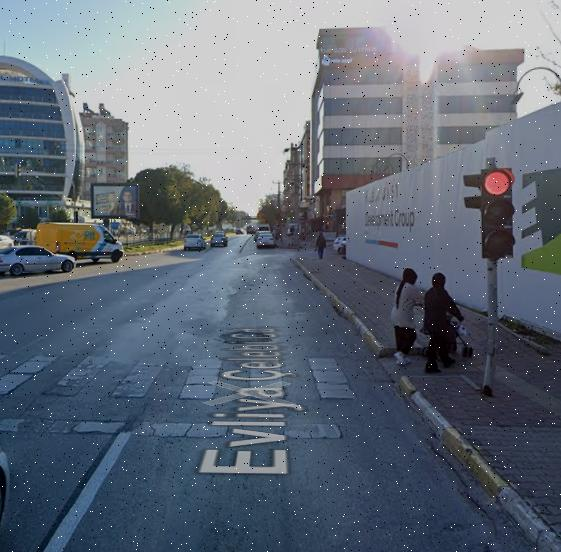redlight: (482, 166, 516, 257)
